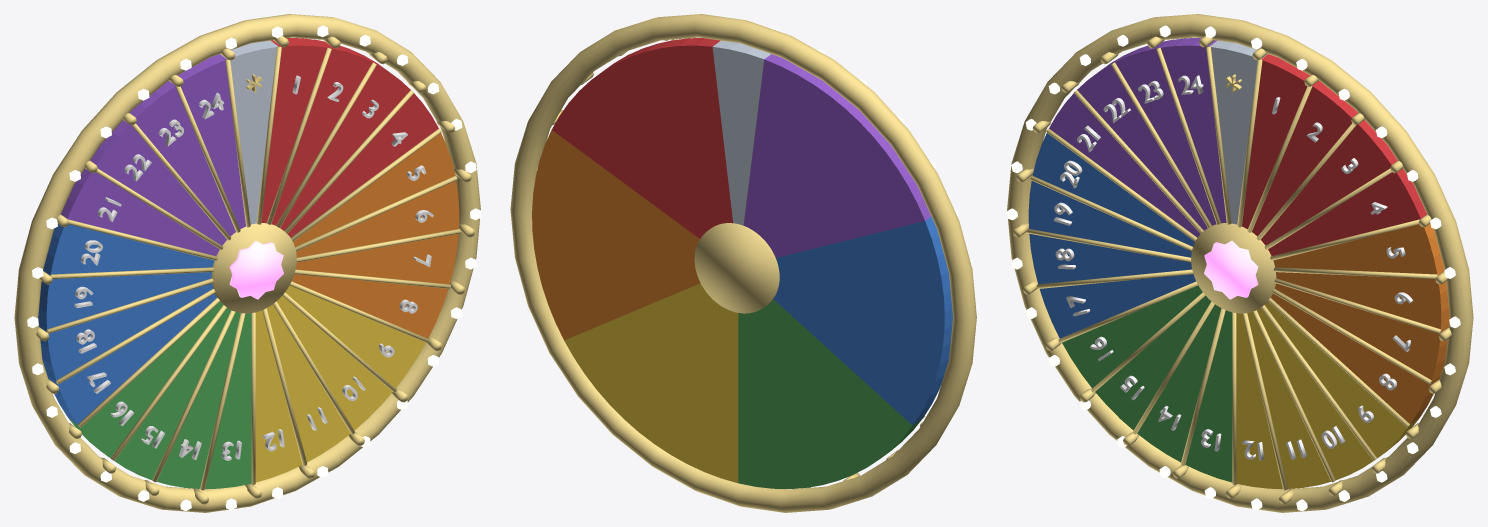
The model's file is pc_wheel.glb.
The picture shows the model from 3 angles, left to right: view 1: azimuth 30°, elevation 25°; view 2: azimuth 150°, elevation 25°; view 3: azimuth 330°, elevation 25°; orthographic projection.
Visible parts, largest first — view 1: pc_wheel; view 2: pc_wheel; view 3: pc_wheel.
Boxes of the visible parts, x1,y1,x2,y2 form: pc_wheel: [14, 14, 481, 512]; pc_wheel: [510, 14, 977, 512]; pc_wheel: [1006, 14, 1473, 512].
Bounding box in the file's own units: 4.04 × 4.04 × 0.28.
